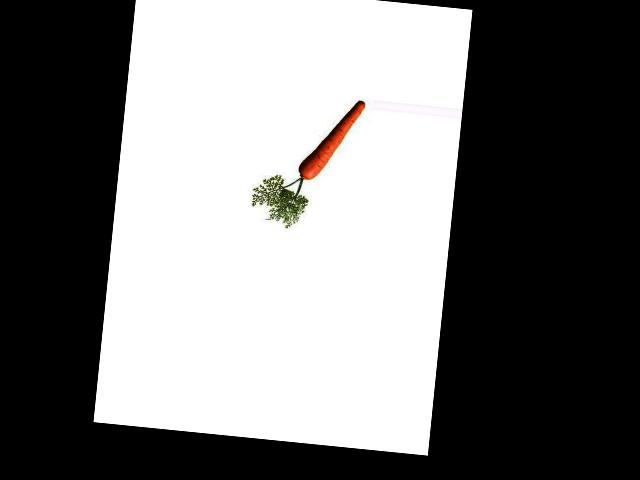carrot: (294, 93, 365, 187)
